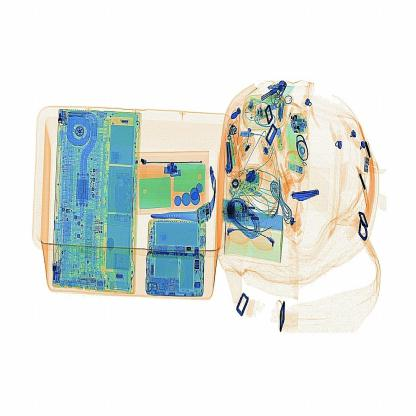knife: (289, 181, 322, 209)
